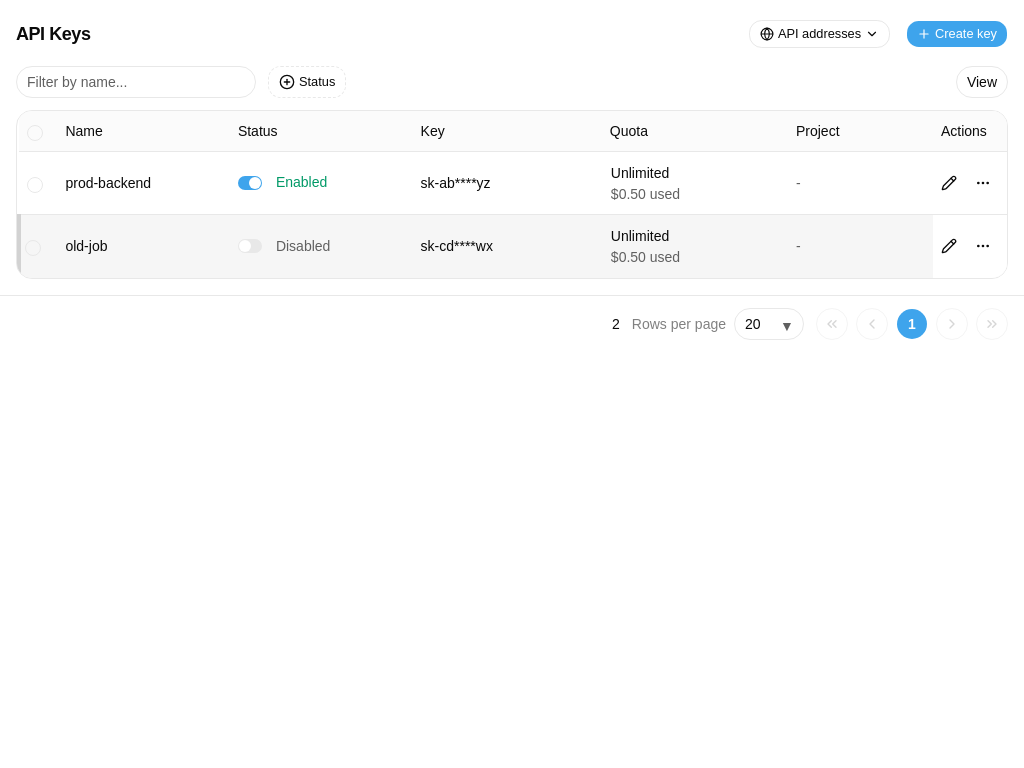
Test: KeysPage filters › narrows the loaded page by status
Expected: the text "old-job" is shown, left=65, top=238, right=107, bottom=254
Click the button "Status" at (307, 82), box left=268, top=66, right=346, bottom=98
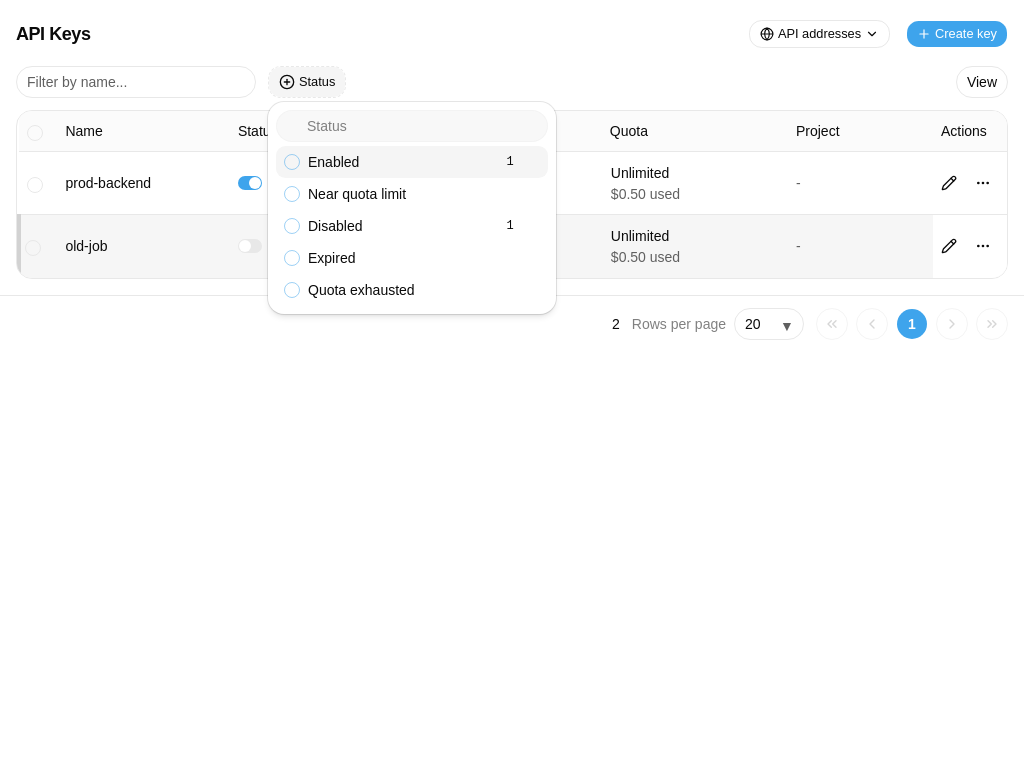
Click the option "Disabled 1" at (335, 226), box left=284, top=218, right=514, bottom=234
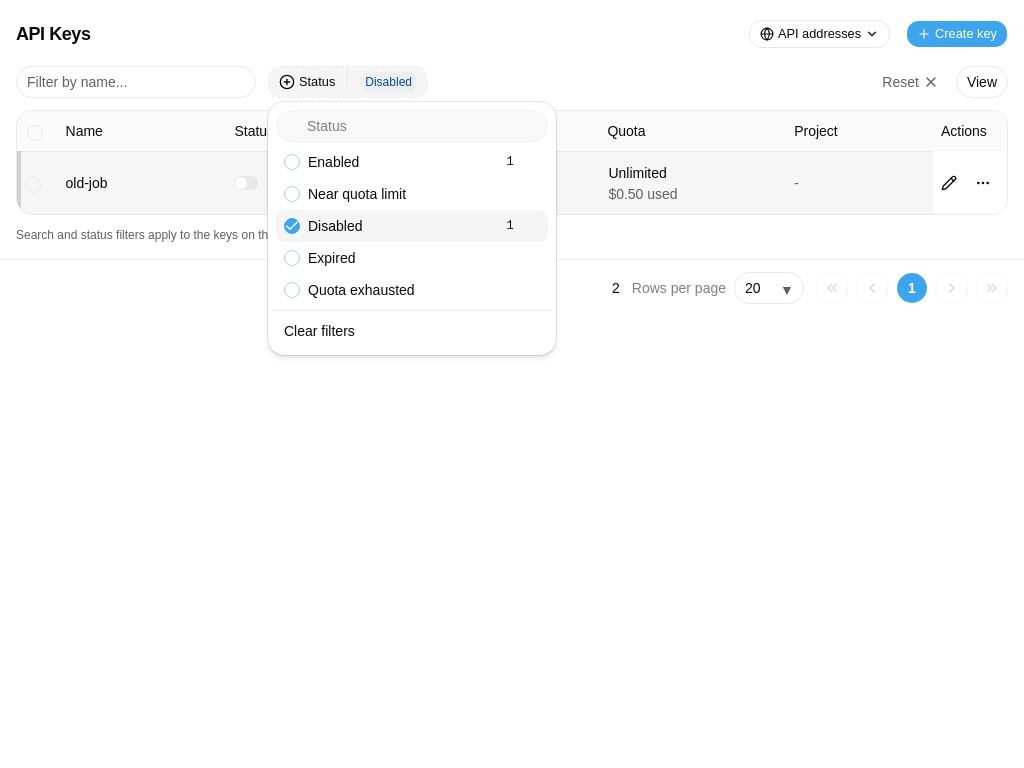
Expected: the text "old-job" is shown, left=66, top=175, right=108, bottom=191
Expected: the text "prod-backend" is gone
